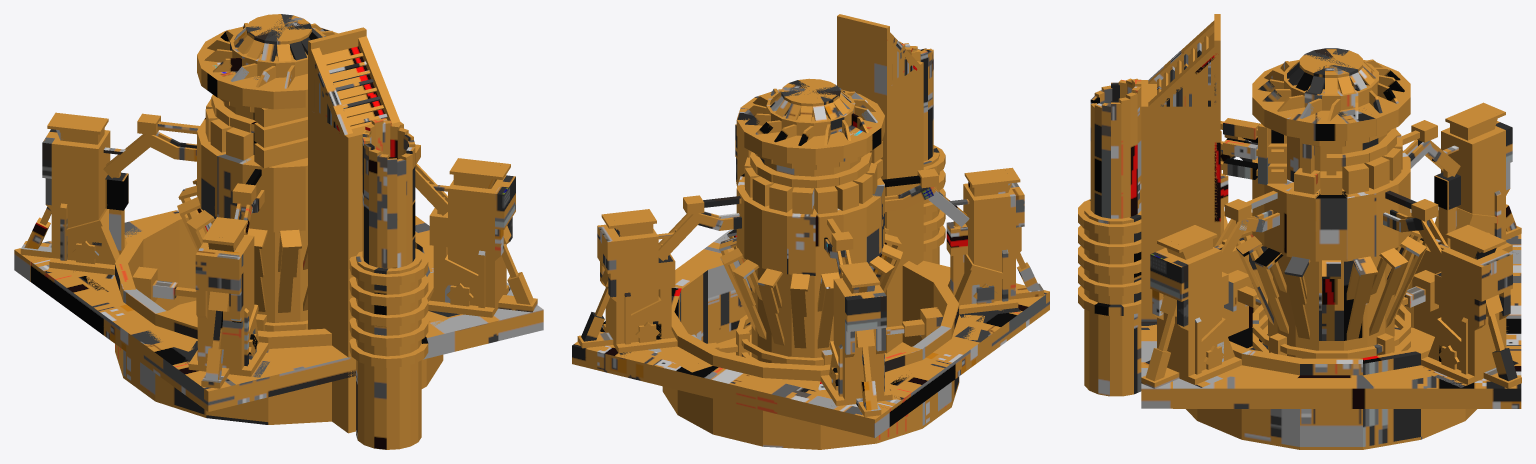
File: vein_miner_mk3.obj
The picture shows the model from 3 angles, left to right: view 1: azimuth 30°, elevation 25°; view 2: azimuth 150°, elevation 25°; view 3: azimuth 270°, elevation 25°; orthographic projection. The views are drawn at different scales.
Visible parts, largest first — view 1: hexadecagon, cube; view 2: hexadecagon, cube; view 3: hexadecagon, cube.
Boxes of the visible parts, box(x1,y1,x2,y2) form: hexadecagon: box(115, 14, 443, 449); cube: box(14, 107, 543, 411); hexadecagon: box(662, 14, 959, 449); cube: box(572, 124, 1049, 437); hexadecagon: box(1078, 14, 1476, 449); cube: box(1141, 102, 1521, 408).
Size of the model in its own units: 7.52 by 7.75 by 8.76.
